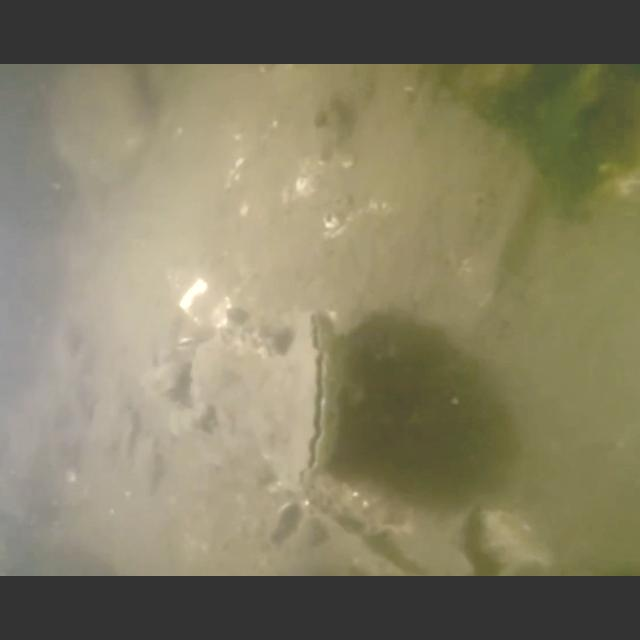Oyster-Open: (248, 302, 348, 493), (189, 321, 287, 473)
